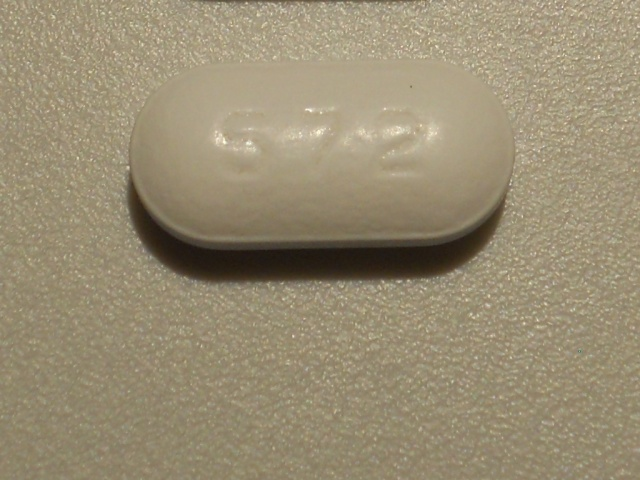2: (371, 104, 436, 185)
7: (291, 100, 354, 186)
S: (211, 106, 276, 186)
